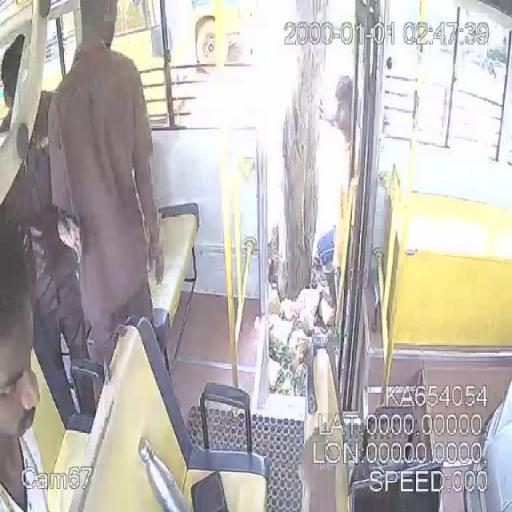persona: (46, 1, 166, 381), (0, 33, 106, 429), (0, 214, 48, 511)
